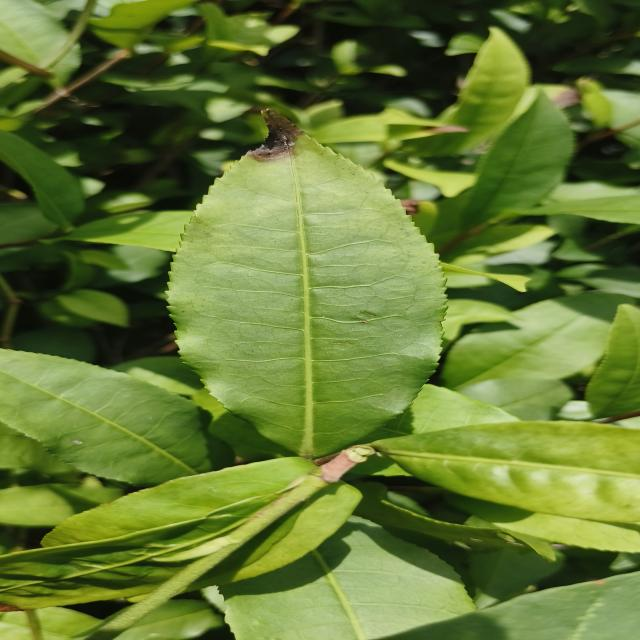Leaf: (169, 130, 445, 457), (0, 457, 318, 610), (220, 516, 474, 640), (0, 349, 210, 486), (372, 421, 640, 522), (441, 293, 630, 420), (194, 481, 362, 588), (382, 572, 640, 640), (461, 89, 572, 231), (410, 27, 530, 155), (449, 495, 640, 552), (0, 131, 84, 231), (0, 0, 80, 84), (585, 304, 640, 418), (469, 547, 564, 608), (65, 210, 193, 253), (90, 0, 190, 49), (507, 195, 640, 224), (56, 289, 128, 327)
